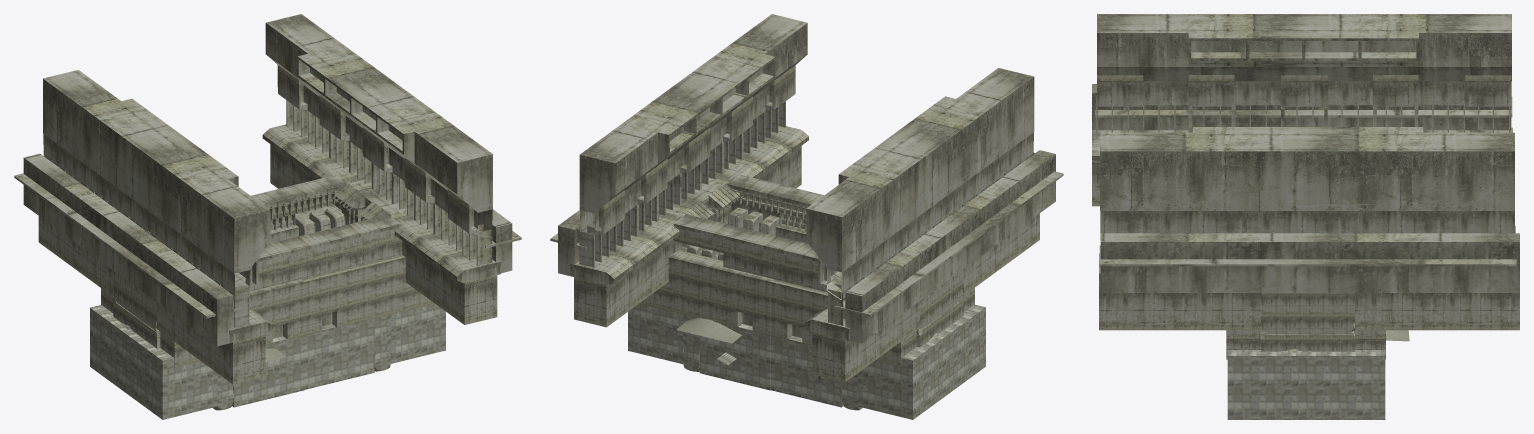
File: Corridor_10.fbx
3 renders of one model, left to right at view 1: azimuth 30°, elevation 25°; view 2: azimuth 150°, elevation 25°; view 3: azimuth 270°, elevation 25°, orthographic. The views are drawn at different scales.
Visible parts, largest first — view 1: Corridor_10.003, Corridor_10.008, Corridor_10.009, Corridor_10.007, Corridor_10.006, Corridor_10.004, Corridor_10.099_dmg, Corridor_10.022_dmg, Corridor_10.018_dmg, Corridor_10.098_dmg, Corridor_10.017; view 2: Corridor_10.003, Corridor_10.008, Corridor_10.007, Corridor_10.009, Corridor_10.006, Corridor_10.004, Corridor_10.099_dmg, Corridor_10.022_dmg, Corridor_10.018_dmg, Rubbles_06, Corridor_10.098_dmg, Corridor_10.017; view 3: Corridor_10.008, Corridor_10.003, Corridor_10.009, Corridor_10.099_dmg, Corridor_10.098_dmg, Corridor_10.007.
Part boxes in pixels (x1,y1,x2,y2): Corridor_10.003: [14, 70, 273, 384]; Corridor_10.008: [262, 14, 521, 324]; Corridor_10.009: [90, 303, 445, 419]; Corridor_10.007: [101, 203, 434, 366]; Corridor_10.006: [251, 175, 401, 291]; Corridor_10.004: [232, 318, 374, 407]; Corridor_10.099_dmg: [113, 203, 364, 329]; Corridor_10.022_dmg: [213, 314, 391, 410]; Corridor_10.018_dmg: [295, 207, 345, 236]; Corridor_10.098_dmg: [113, 300, 160, 348]; Corridor_10.017: [333, 183, 391, 220]; Corridor_10.003: [805, 68, 1063, 382]; Corridor_10.008: [550, 14, 808, 327]; Corridor_10.007: [639, 220, 974, 366]; Corridor_10.009: [628, 303, 985, 419]; Corridor_10.006: [673, 174, 823, 291]; Corridor_10.004: [699, 323, 842, 407]; Corridor_10.099_dmg: [683, 205, 963, 328]; Corridor_10.022_dmg: [683, 314, 862, 410]; Corridor_10.018_dmg: [687, 207, 779, 260]; Rubbles_06: [676, 318, 943, 343]; Corridor_10.098_dmg: [916, 298, 963, 347]; Corridor_10.017: [682, 182, 741, 219]; Corridor_10.008: [1099, 127, 1519, 330]; Corridor_10.003: [1092, 14, 1512, 206]; Corridor_10.009: [1227, 350, 1385, 419]; Corridor_10.099_dmg: [1260, 293, 1354, 332]; Corridor_10.098_dmg: [1260, 331, 1354, 351]; Corridor_10.007: [1226, 330, 1385, 359].
Bounding box in the file's own units: 12686 × 9448 × 13683.
